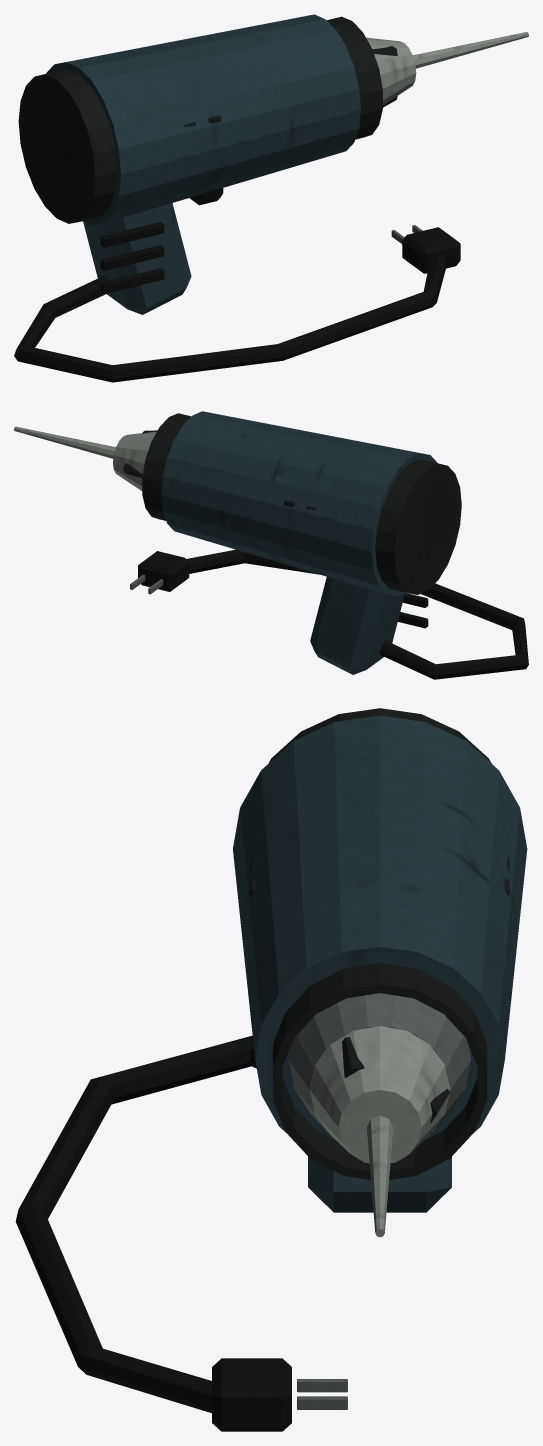
File: corded_power_drill.glb
The picture shows the model from 3 angles, top to bottom: view 1: azimuth 30°, elevation 25°; view 2: azimuth 150°, elevation 25°; view 3: azimuth 270°, elevation 25°; orthographic projection. The views are drawn at different scales.
Parts seen in each view (by area): view 1: corded_power_drill; view 2: corded_power_drill; view 3: corded_power_drill.
Boxes of the visible parts, left/top/right/bottom form: corded_power_drill: left=14, top=14, right=528, bottom=382; corded_power_drill: left=14, top=411, right=528, bottom=679; corded_power_drill: left=15, top=708, right=527, bottom=1431.
Bounding box in the file's own units: 0.3479 × 0.1511 × 0.1598.
Materials: 5 (5 with a texture image).
